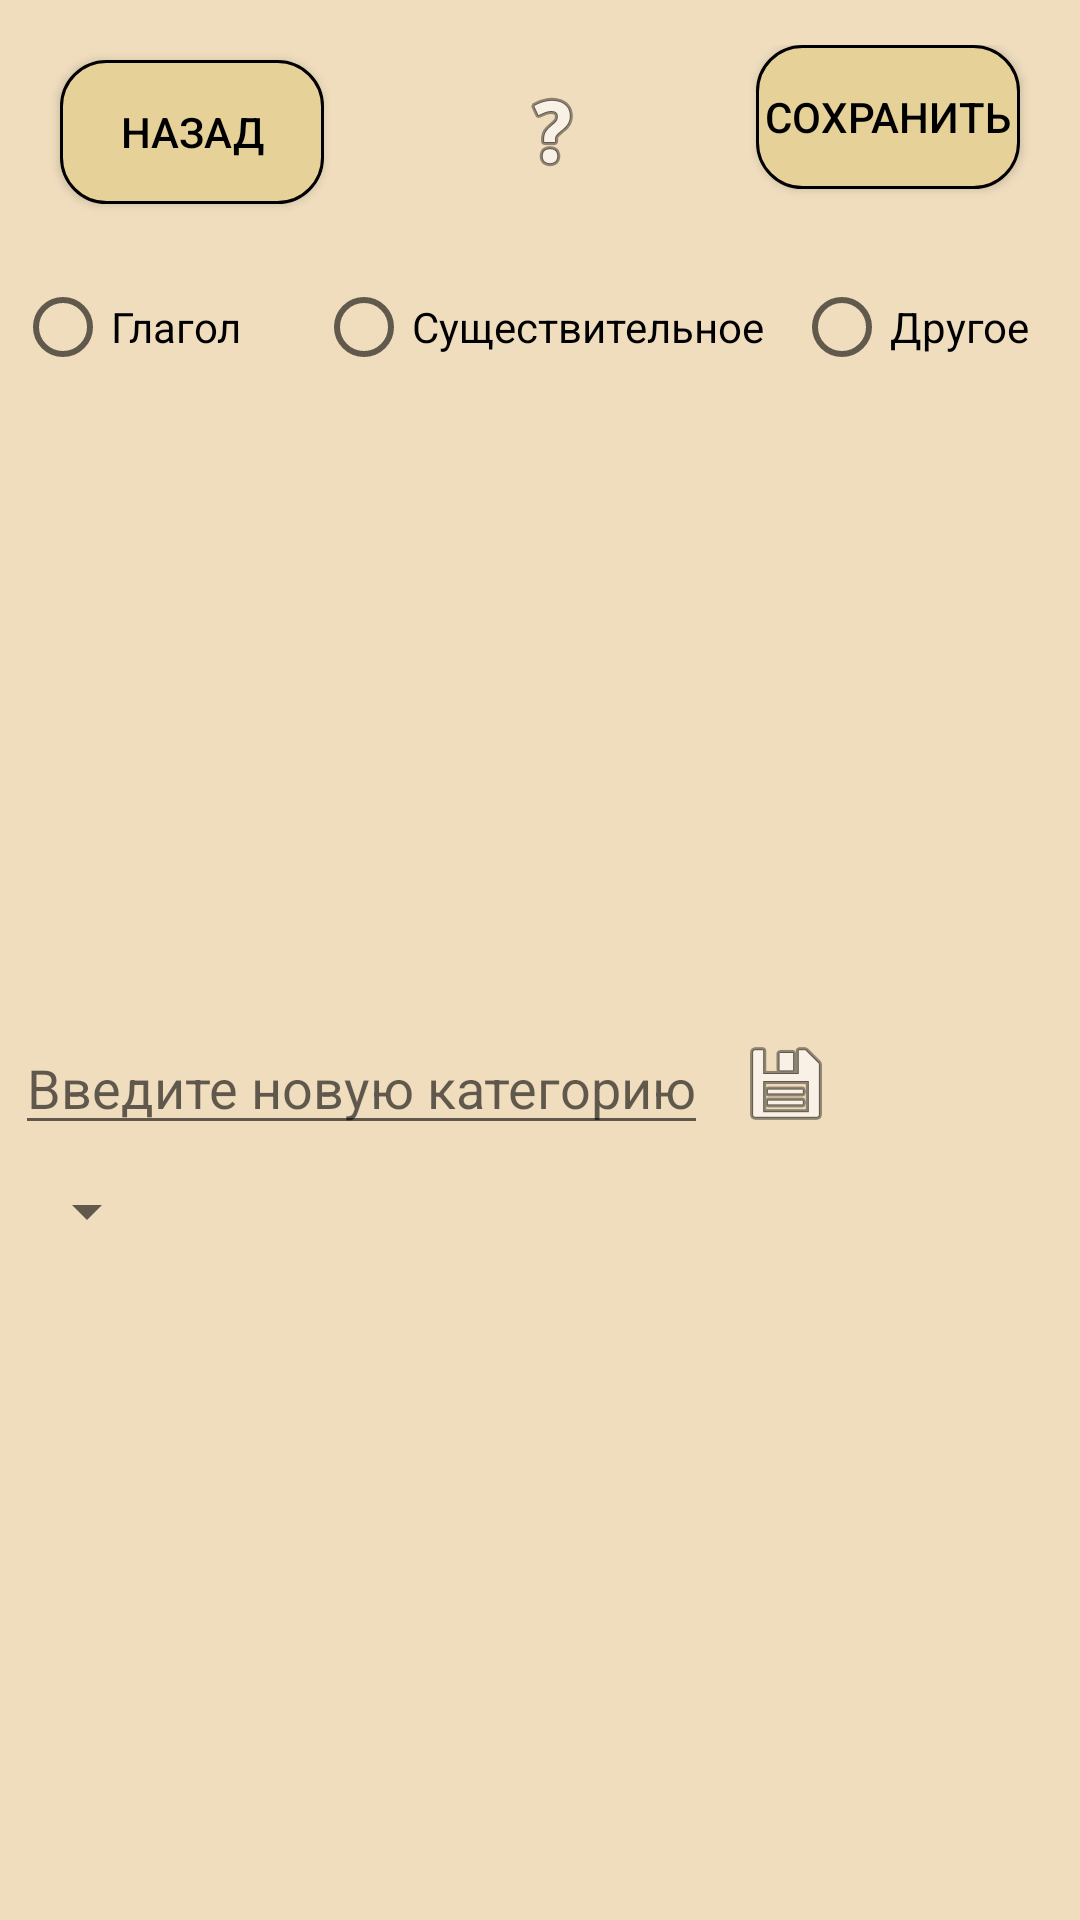

Icons on this 1080w x 1920h Android screen, each with the point to tap as [x,y]:
help: [552,132]
save: [786,1083]
